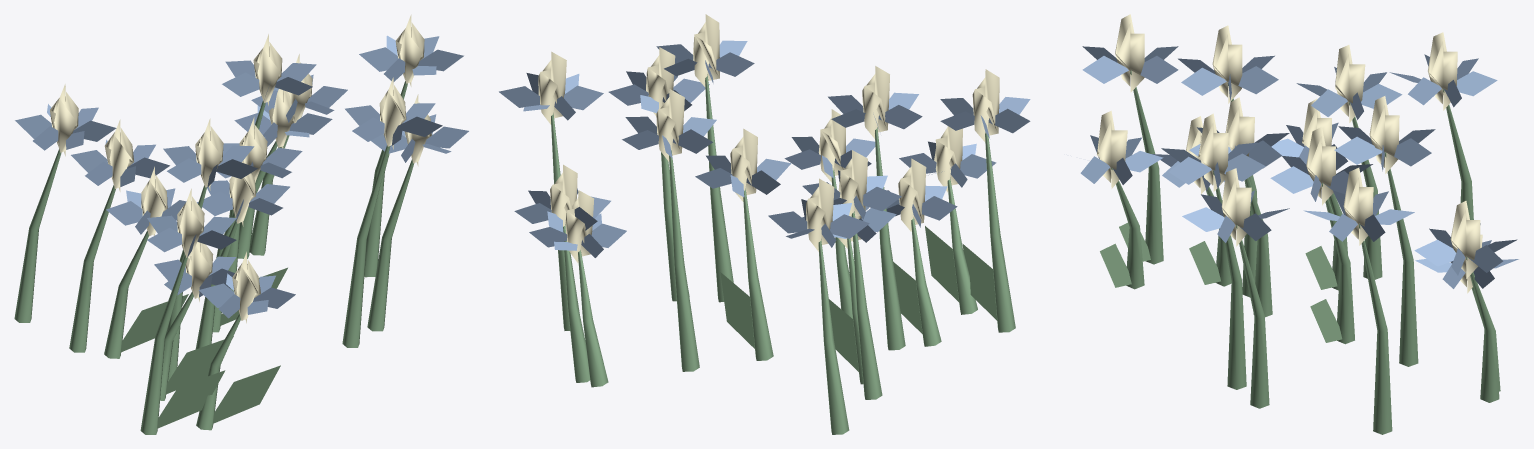
The model's file is flowering_aster.glb.
The picture shows the model from 3 angles, left to right: view 1: azimuth 30°, elevation 25°; view 2: azimuth 150°, elevation 25°; view 3: azimuth 270°, elevation 25°; orthographic projection. The views are drawn at different scales.
Visible parts, largest first — view 1: flowering_aster; view 2: flowering_aster; view 3: flowering_aster.
Boxes of the visible parts, x1,y1,x2,y2 form: flowering_aster: [14, 14, 468, 434]; flowering_aster: [499, 14, 1030, 434]; flowering_aster: [1080, 14, 1518, 434].
Bounding box in the file's own units: 1.31 × 0.8211 × 1.18.
